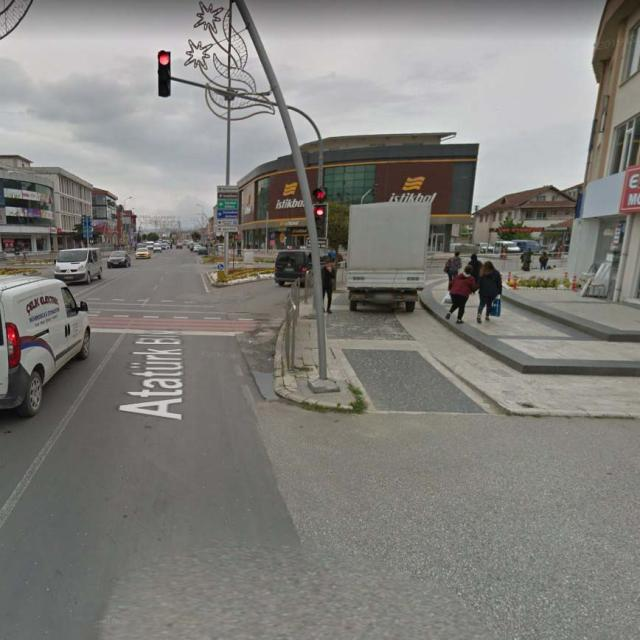kirmizi: (158, 50, 170, 96), (314, 204, 328, 239)
